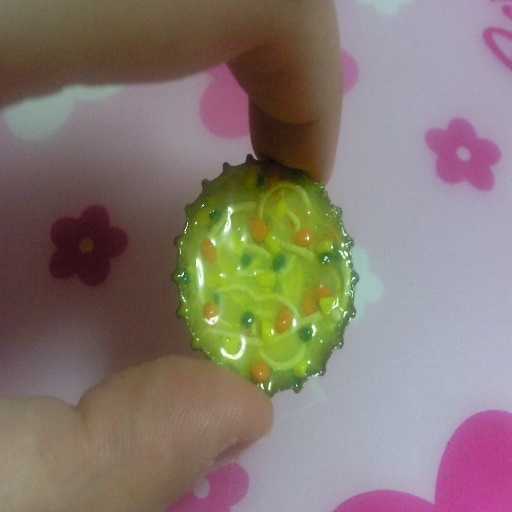hand: (0, 0, 342, 511)
